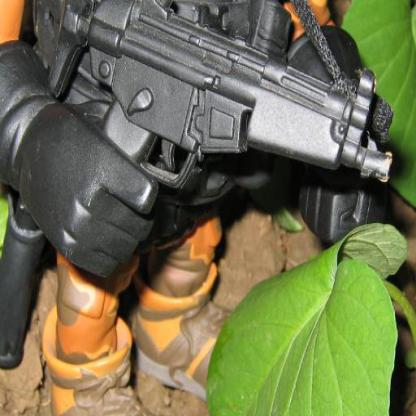gun: (41, 0, 397, 170)
